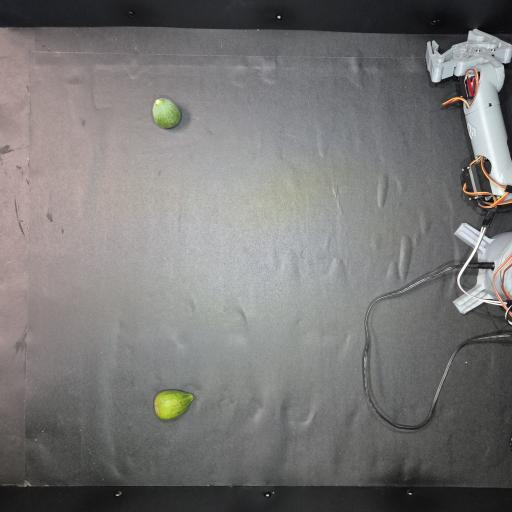higo: (154, 390, 194, 419), (152, 98, 181, 129)
